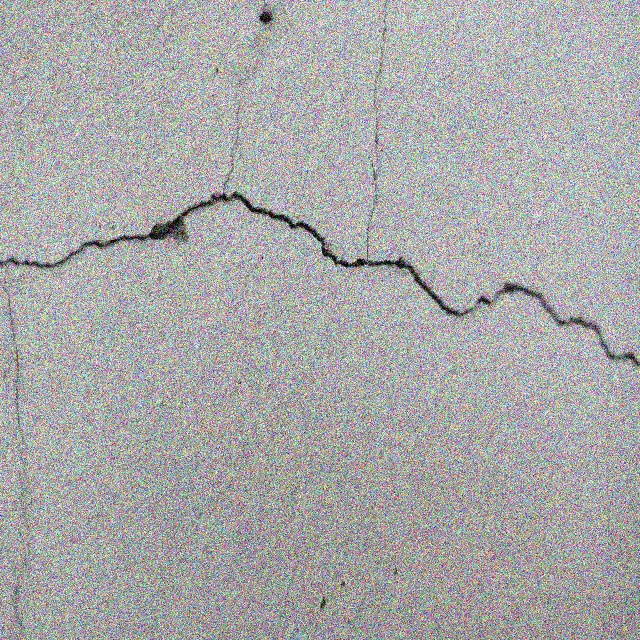SurfaceCrack: (0, 167, 630, 390)
